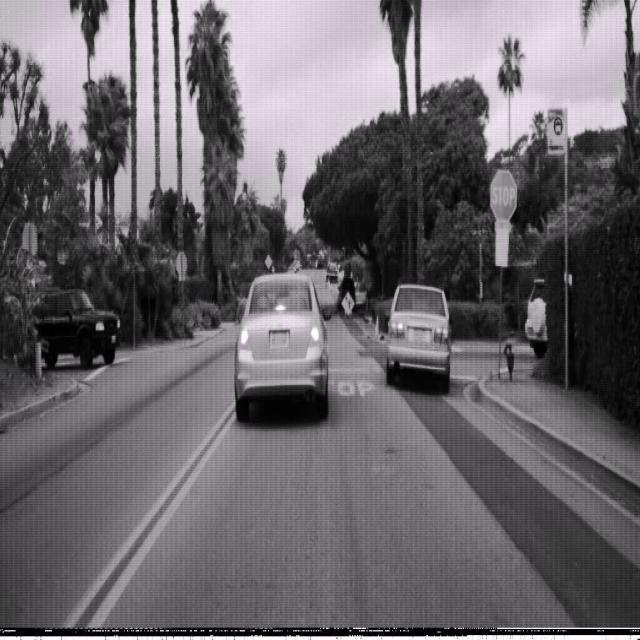stop_sign: (489, 168, 517, 222)
